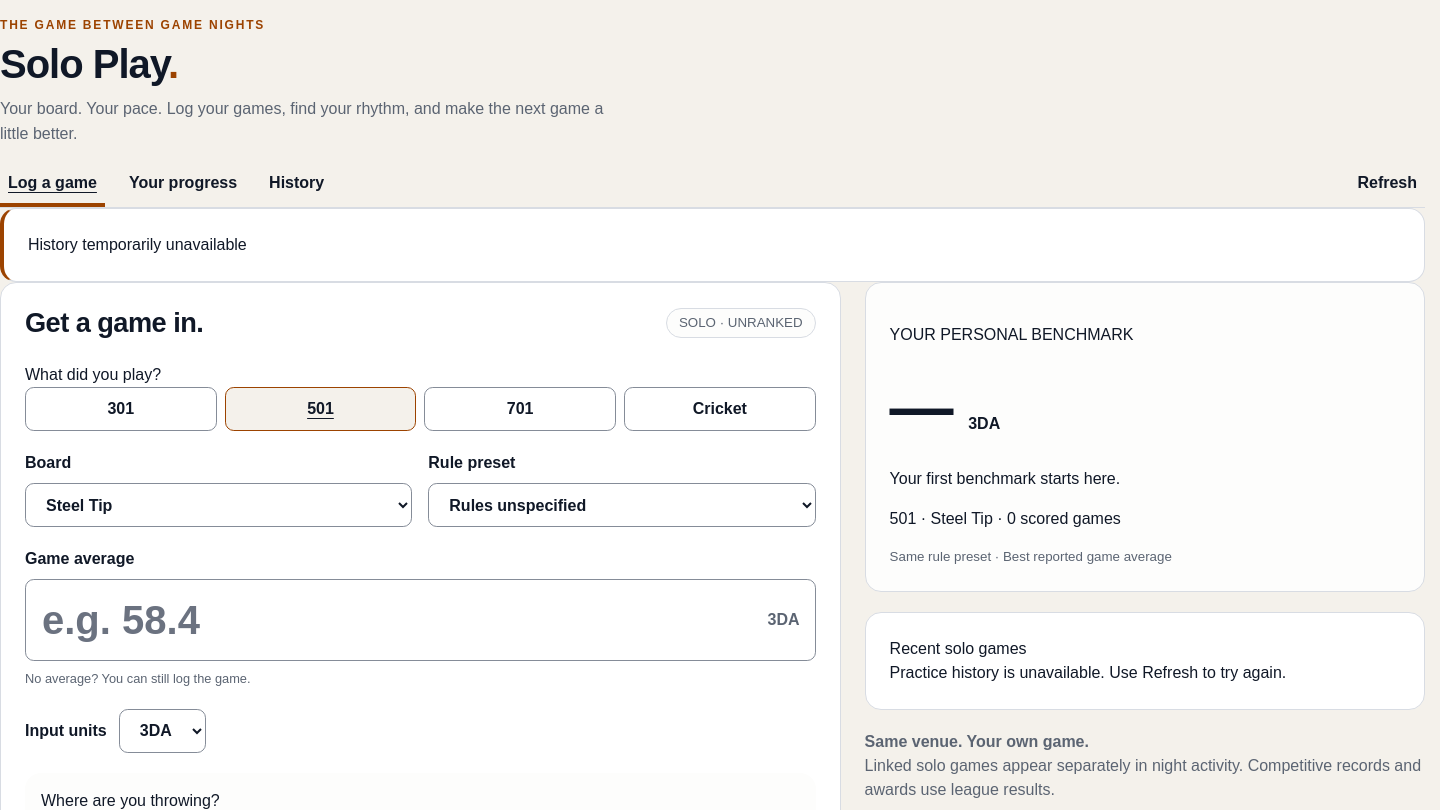
Test: Solo Play persistence boundaries › does not turn failed history into an empty progress comparison
The width and height of the screenshot is (1440, 810).
Expected: the text "History temporarily unavailable" is shown, [0, 208, 1425, 282]
Click the button "Your progress": (183, 185) [121, 163, 245, 207]
(page scrolled)
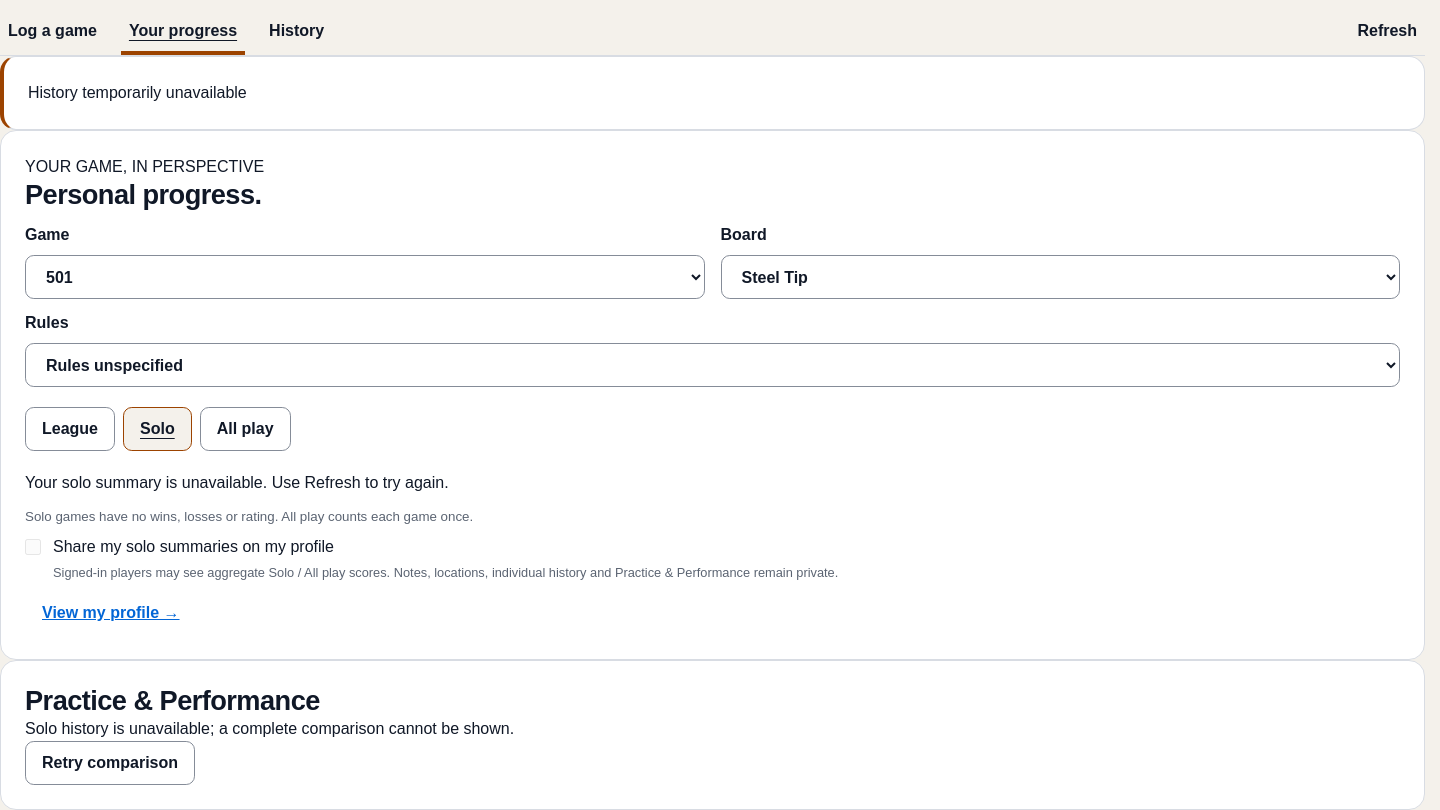
Result: the text "Solo history is unavailable; a complete comparison cannot be shown." is shown at [25, 720, 514, 737]
